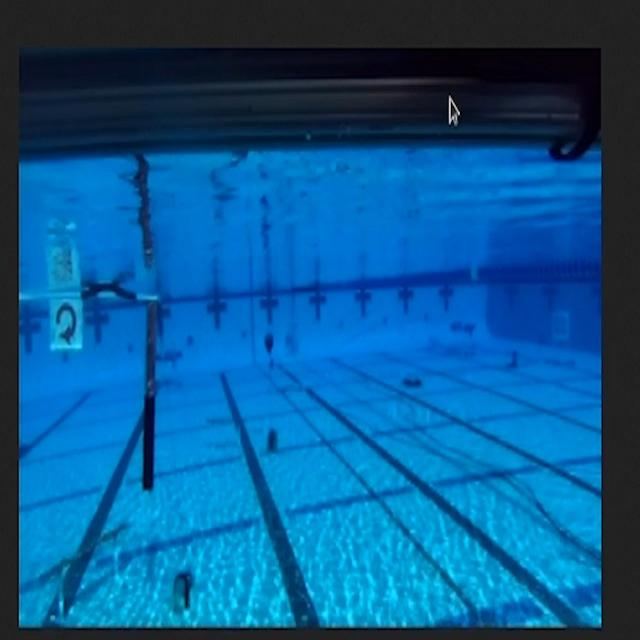Gate: (19, 268, 171, 518)
Path: (34, 516, 136, 624)
